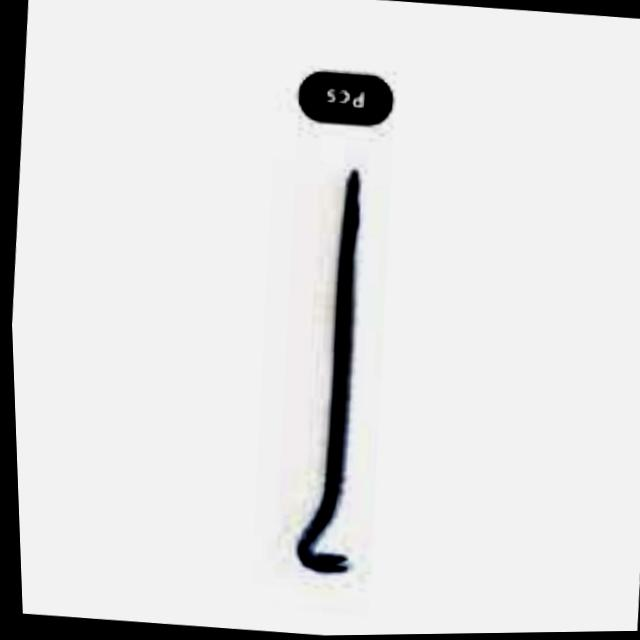crow bar: (269, 156, 393, 597)
